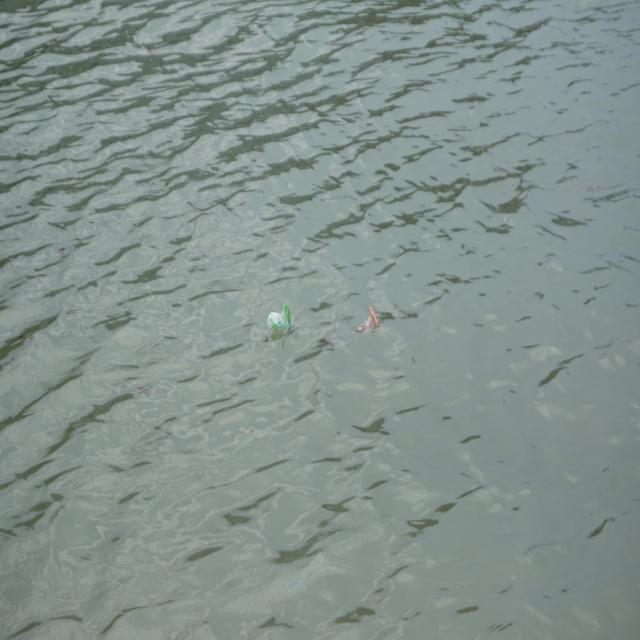Bungkus Minuman: (266, 300, 296, 345), (353, 304, 386, 344)
